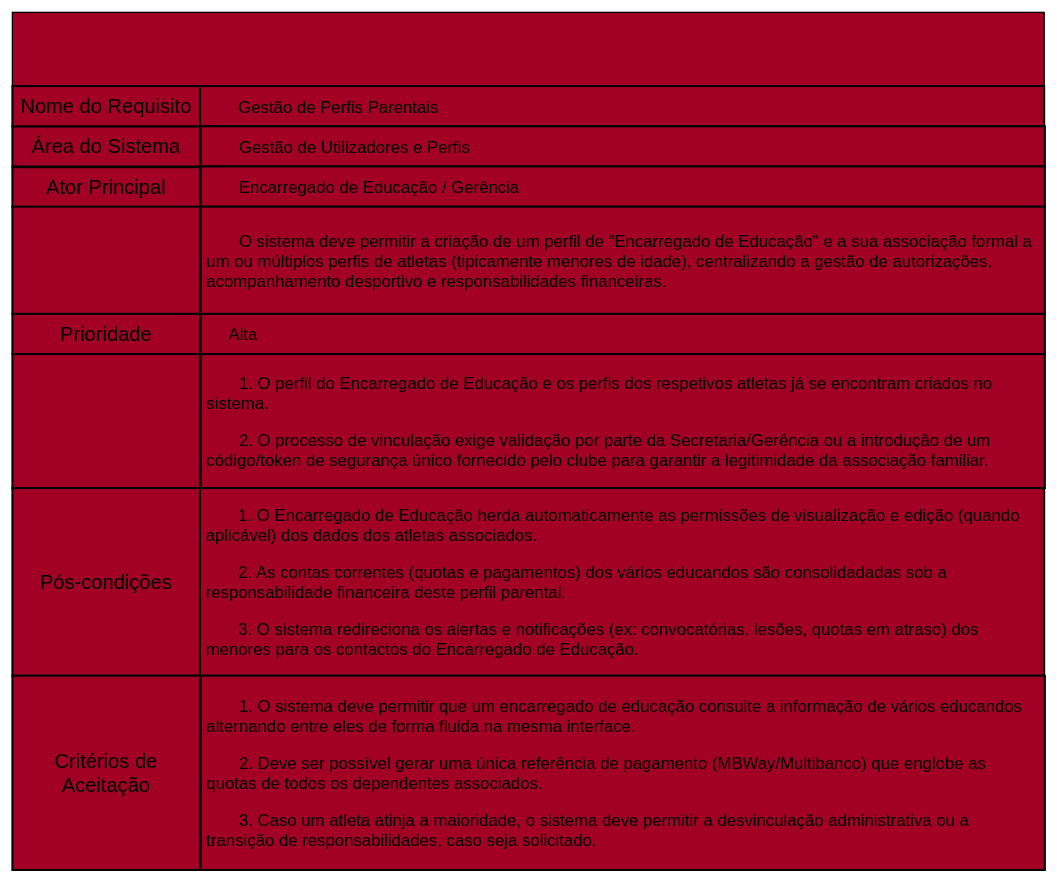
The diagram is 1057 pixels wide and 882 high, and some of its shapes have lost their labels. Here are the shapes that lost their labels. From the top down, the box of each, then its label:
(11, 11, 1045, 86): RF-02
(11, 205, 201, 315): Descrição
(11, 353, 201, 489): Pré-condições
